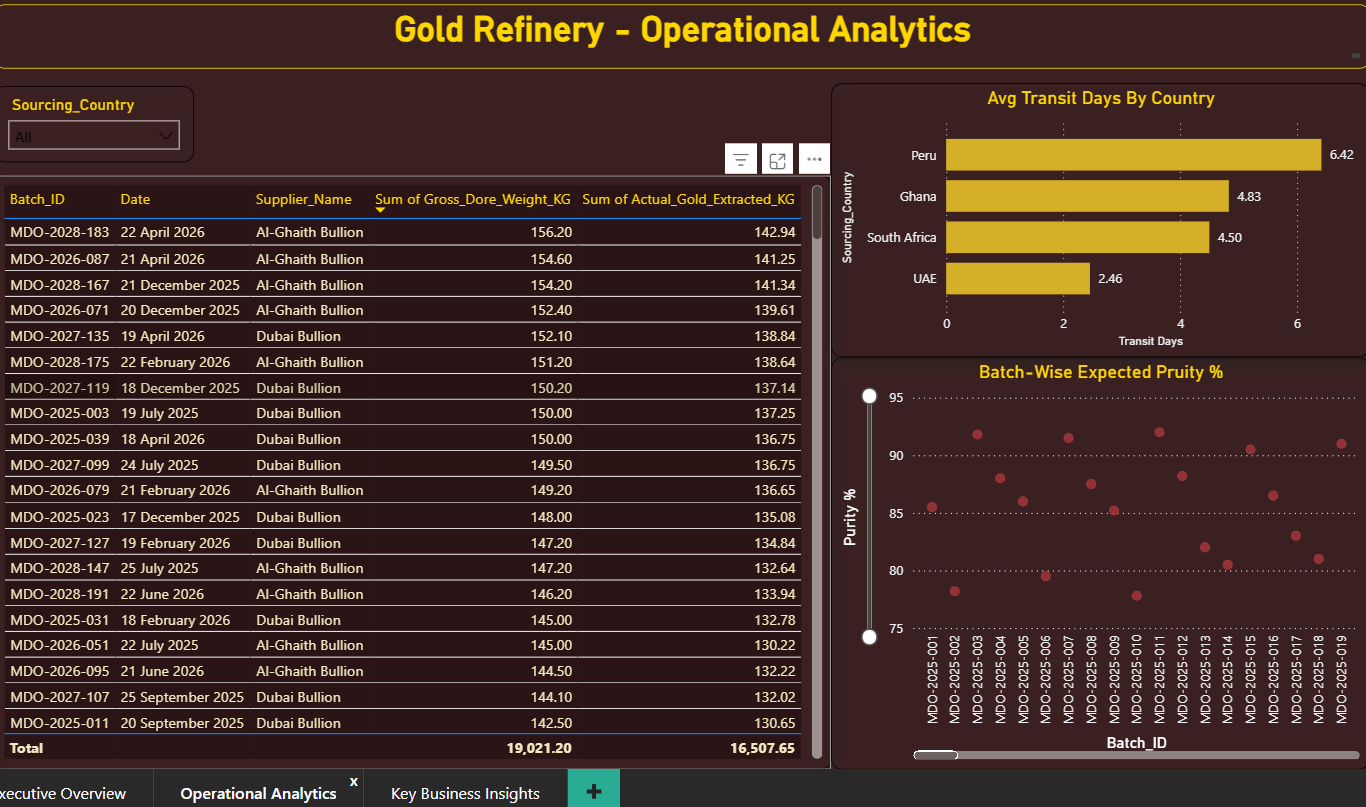

The page's visual inventory and layout, read from the dashboard file:
{"tool":"powerbi","page":{"name":"Operational Analytics","canvas":[1280,720],"ordinal":1},"visuals":[{"type":"textbox","title":"Gold Refinery - Operational Analytics","box":[0,9.3,1280.6,59.5],"z":0},{"type":"slicer","fields":{"Values":["MDO_GOLD_REFINERY_DATA.Sourcing_Country"]},"box":[0,84.6,186.3,71.4],"z":1000},{"type":"clusteredBarChart","title":"Avg Transit Days By Country","fields":{"Category":["MDO_GOLD_REFINERY_DATA.Sourcing_Country"],"Y":["Avg(MDO_GOLD_REFINERY_DATA.Transit_Days_Port_to_Refinery)"]},"box":[779.7,81.9,500.9,255.1],"z":2000},{"type":"scatterChart","title":"Batch-Wise Expected Pruity %","fields":{"X":["MDO_GOLD_REFINERY_DATA.Batch_ID"],"Y":["Sum(MDO_GOLD_REFINERY_DATA.Expected_Purity_Pct)"]},"box":[779.7,337,500.9,383.3],"z":3000},{"type":"tableEx","fields":{"Values":["MDO_GOLD_REFINERY_DATA.Batch_ID","MDO_GOLD_REFINERY_DATA.Date","MDO_GOLD_REFINERY_DATA.Supplier_Name","Sum(MDO_GOLD_REFINERY_DATA.Gross_Dore_Weight_KG)","Sum(MDO_GOLD_REFINERY_DATA.Actual_Gold_Extracted_KG)"]},"box":[0,167.8,779.7,552.4],"z":4000}]}

Visuals, with their boxes on the page's 1280x720 design canvas (x1, y1, x2, y2). These are canvas units, not pixel positions in the 1366x807 screenshot, which may show the page scaled, cropped or inside an application window:
"Gold Refinery - Operational Analytics" textbox: bbox=(0, 9, 1281, 69)
slicer - MDO_GOLD_REFINERY_DATA.Sourcing_Country: bbox=(0, 85, 186, 156)
"Avg Transit Days By Country" clusteredBarChart: bbox=(780, 82, 1281, 337)
"Batch-Wise Expected Pruity %" scatterChart: bbox=(780, 337, 1281, 720)
tableEx - MDO_GOLD_REFINERY_DATA.Batch_ID x MDO_GOLD_REFINERY_DATA.Date: bbox=(0, 168, 780, 720)
